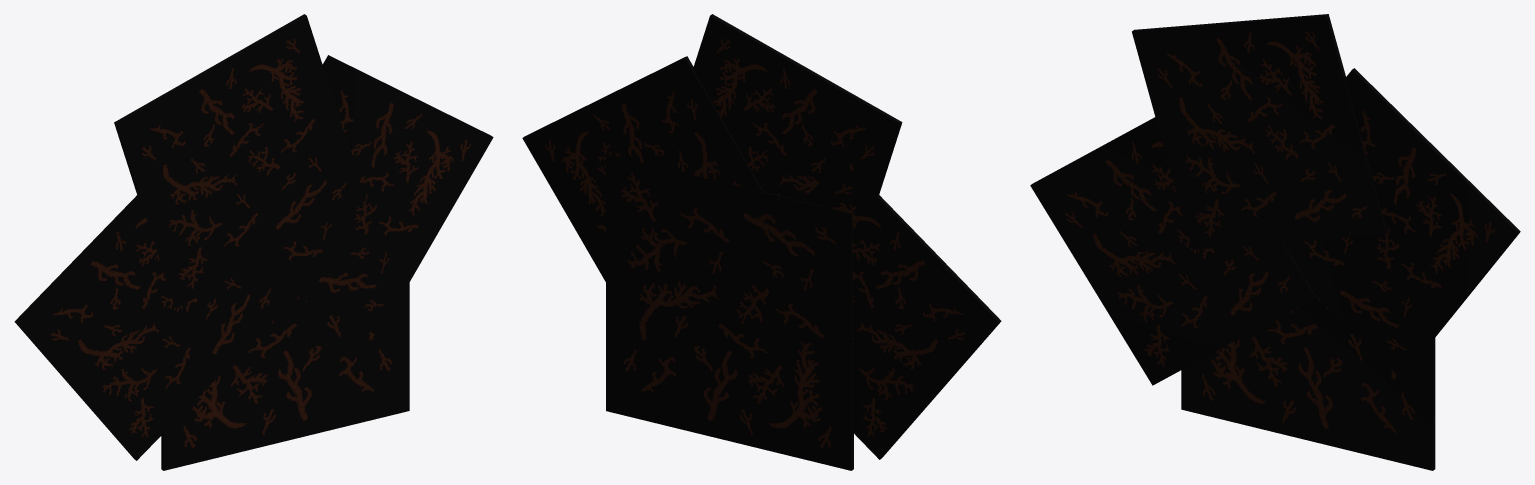
File: amisdrift twigs.fbx
3 views of the same model, side by side, from view 1: azimuth 30°, elevation 25°; view 2: azimuth 150°, elevation 25°; view 3: azimuth 330°, elevation 25° (orthographic). The views are drawn at different scales.
Parts seen in each view (by area): view 1: Twig spam; view 2: Twig spam; view 3: Twig spam.
Boxes of the visible parts, left/top/right/bottom form: Twig spam: left=14, top=14, right=493, bottom=470; Twig spam: left=522, top=14, right=1001, bottom=470; Twig spam: left=1030, top=14, right=1520, bottom=470.
Bounding box in the file's own units: 403 × 479 × 5.4.
